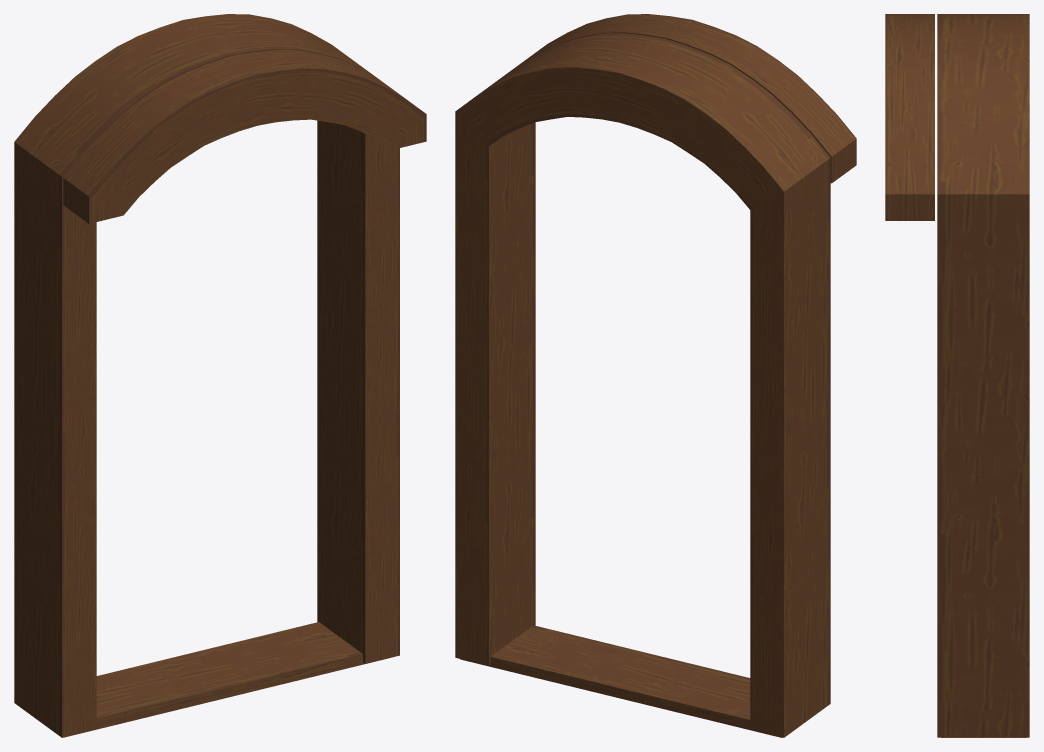
The model's file is DoorFrame_Round_WoodDark.glb.
The picture shows the model from 3 angles, left to right: view 1: azimuth 30°, elevation 25°; view 2: azimuth 150°, elevation 25°; view 3: azimuth 270°, elevation 25°; orthographic projection. The views are drawn at different scales.
Parts seen in each view (by area): view 1: DoorFrame_Round_WoodDark; view 2: DoorFrame_Round_WoodDark; view 3: DoorFrame_Round_WoodDark.
Boxes of the visible parts, x1,y1,x2,y2 form: DoorFrame_Round_WoodDark: (14, 14, 426, 737); DoorFrame_Round_WoodDark: (455, 14, 856, 737); DoorFrame_Round_WoodDark: (885, 14, 1029, 737).
Size of the model in its own units: 1.41 by 2.56 by 0.5389.
1 material, 1 textured.
